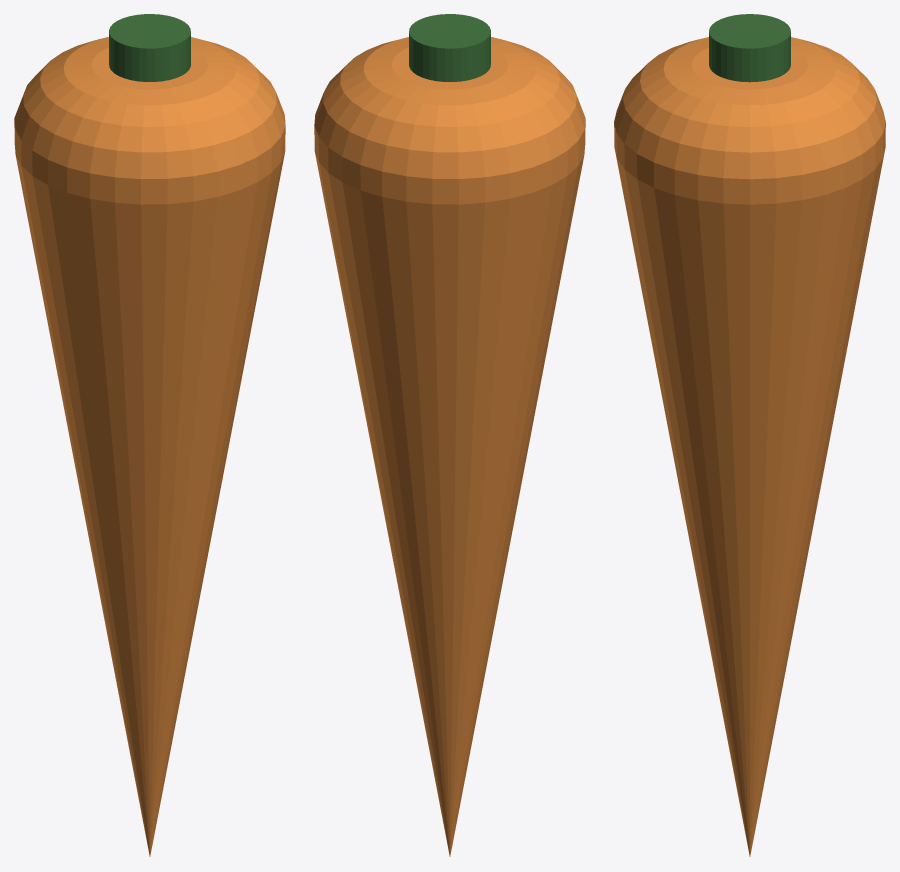
The model's file is Carrot.glb.
3 renders of one model, left to right at view 1: azimuth 30°, elevation 25°; view 2: azimuth 150°, elevation 25°; view 3: azimuth 270°, elevation 25°, orthographic.
Visible parts, largest first — view 1: Cone; view 2: Cone; view 3: Cone.
Boxes of the visible parts, left/top/right/bottom form: Cone: left=14, top=14, right=285, bottom=856; Cone: left=314, top=14, right=585, bottom=856; Cone: left=614, top=14, right=885, bottom=856.
Bounding box in the file's own units: 1.46 × 4.89 × 1.46.
